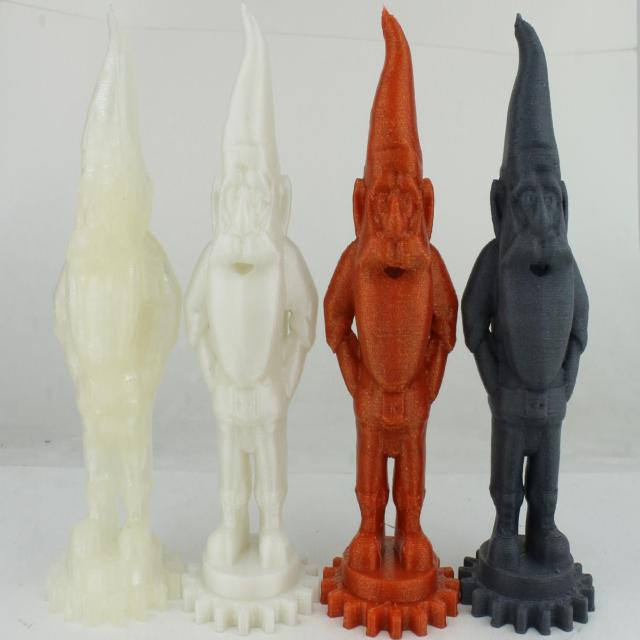Without deffect: (462, 12, 600, 632), (329, 10, 453, 640)
